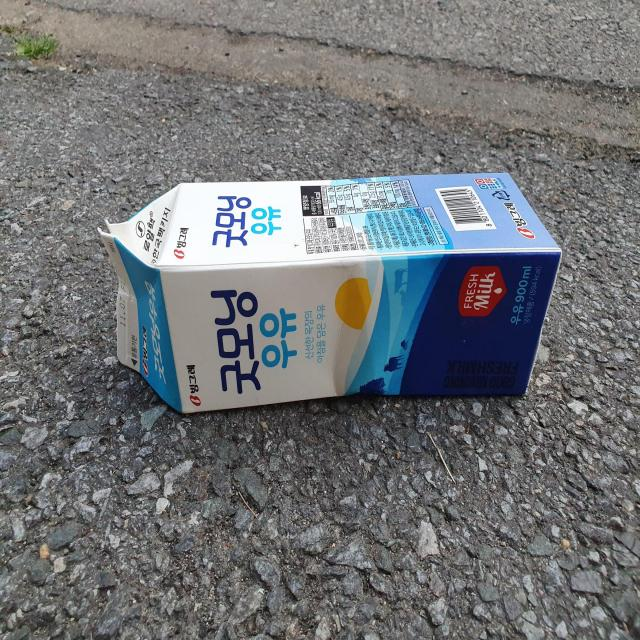paperpack: (98, 172, 562, 413)
